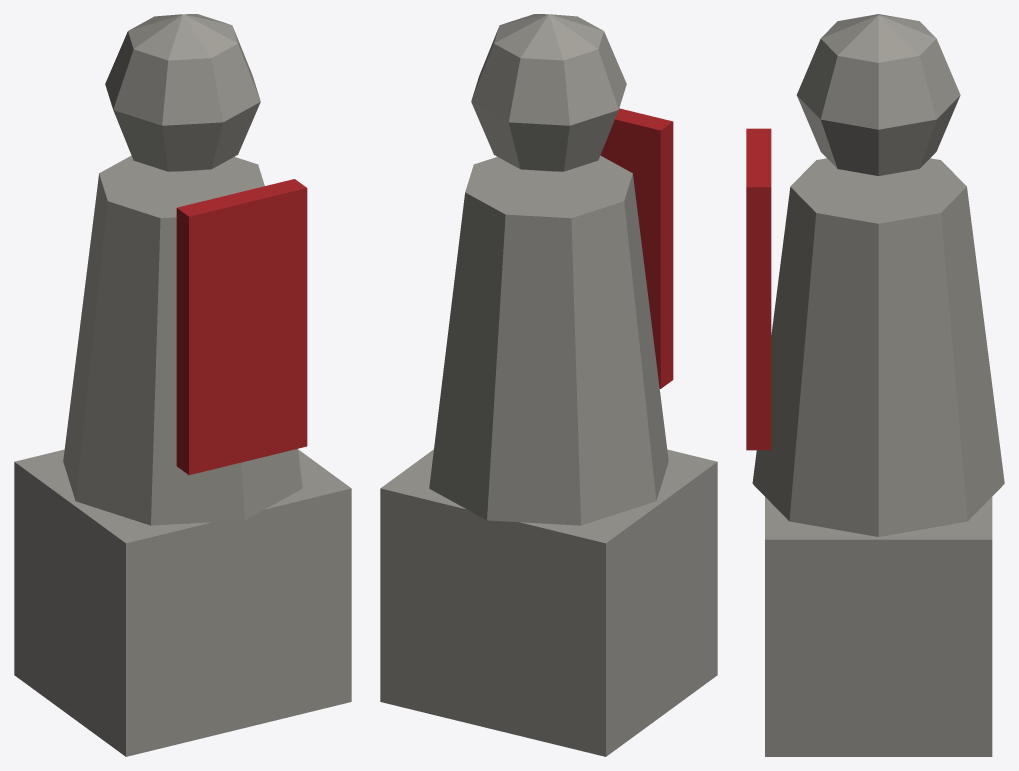
Rendered from jizo.glb.
3 renders of one model, left to right at view 1: azimuth 30°, elevation 25°; view 2: azimuth 150°, elevation 25°; view 3: azimuth 270°, elevation 25°, orthographic.
Parts seen in each view (by area): view 1: jizo; view 2: jizo; view 3: jizo.
Part boxes in pixels (<box>): jizo: <box>14,14,351,756</box>; jizo: <box>380,14,717,756</box>; jizo: <box>746,14,1004,756</box>.
Size of the model in its own units: 0.42 by 1.2 by 0.41.
